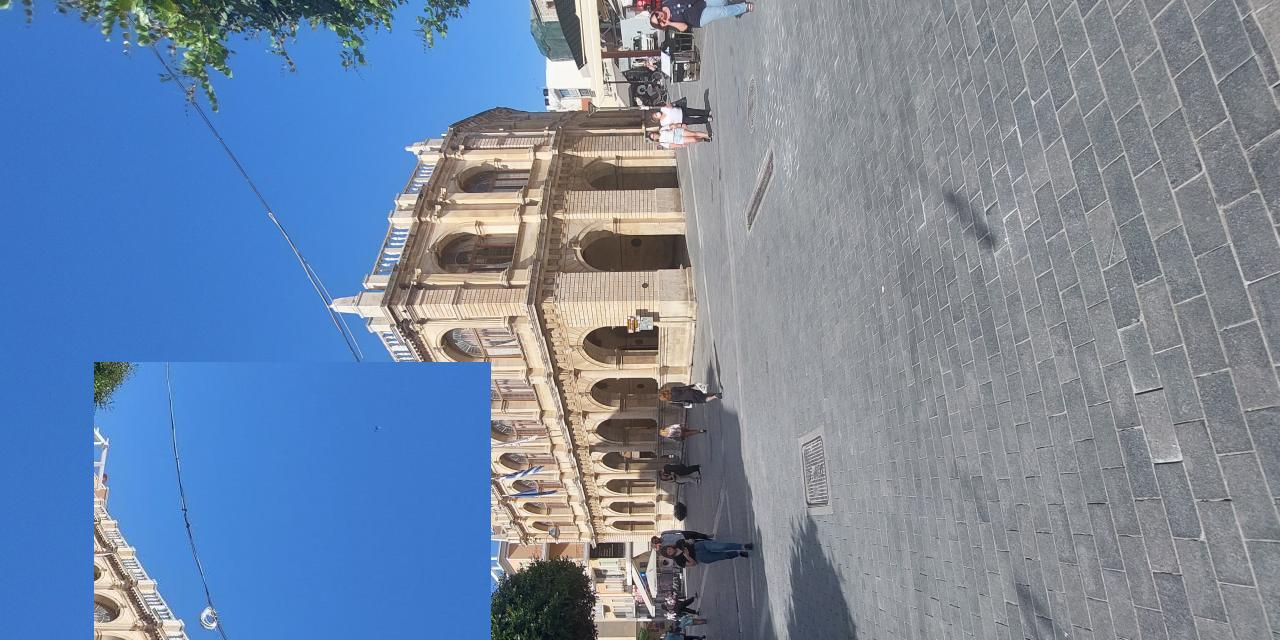Loggia: (95, 363, 492, 640)
